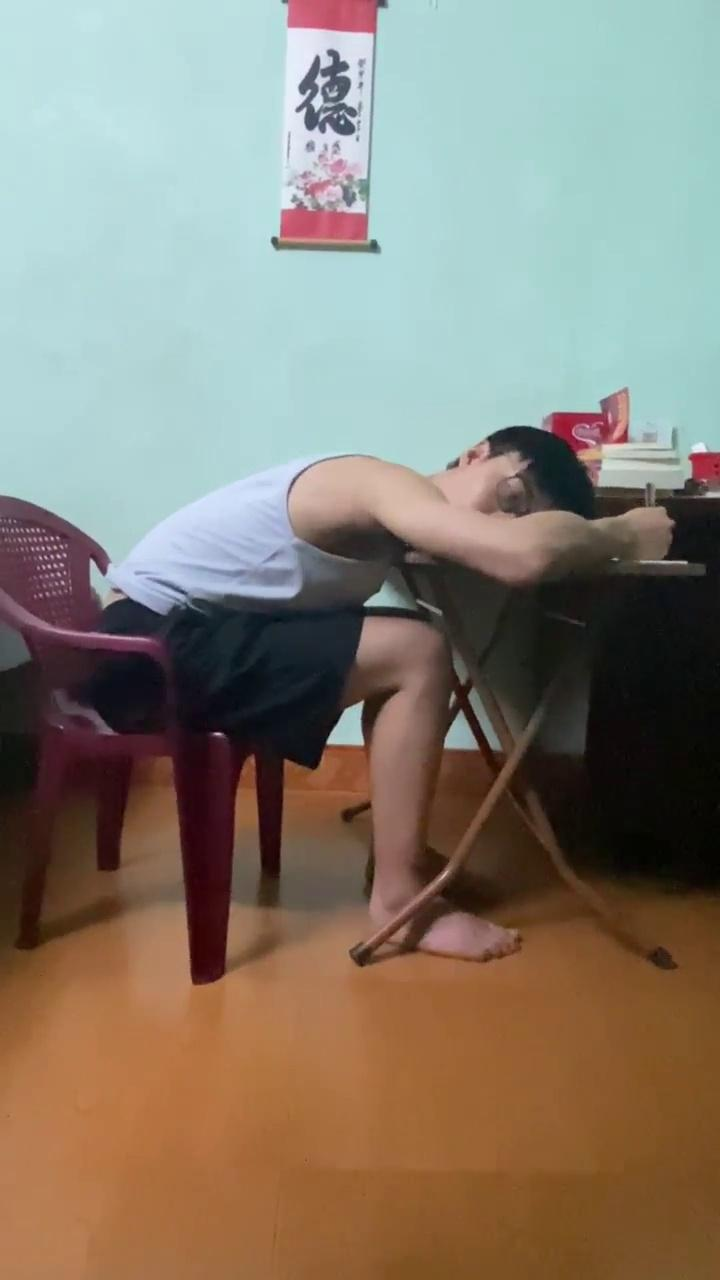BadPosture: (101, 426, 672, 926)
